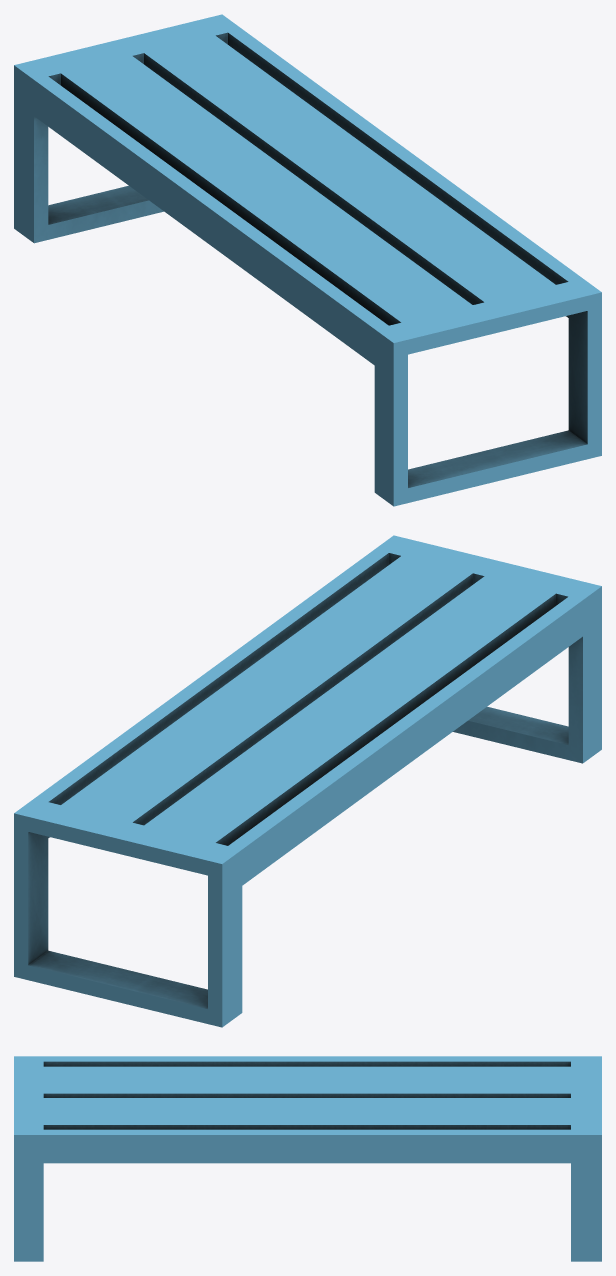
Rendered from Silla ext.FBX.
3 views of the same model, one above another, from view 1: azimuth 30°, elevation 25°; view 2: azimuth 150°, elevation 25°; view 3: azimuth 270°, elevation 25° (orthographic). The views are drawn at different scales.
Parts seen in each view (by area): view 1: Silla 001; view 2: Silla 001; view 3: Silla 001.
Part boxes in pixels (x1,y1,x2,y2): Silla 001: (14,14,601,506); Silla 001: (14,535,601,1027); Silla 001: (14,1056,601,1261).
Size of the model in its own units: 0.6 by 0.45 by 1.9.
Materials: 1 (1 with a texture image).
